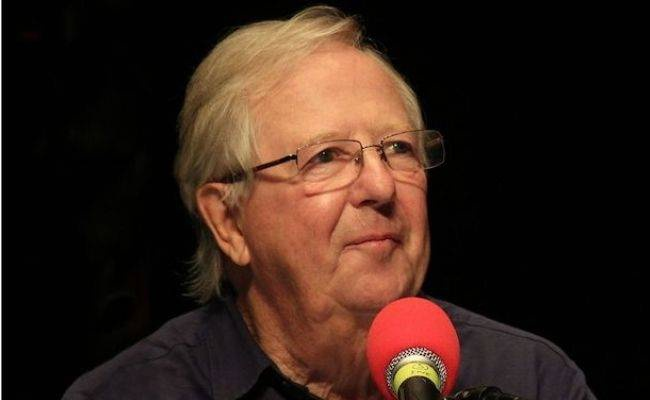bad: (266, 68, 489, 291)
